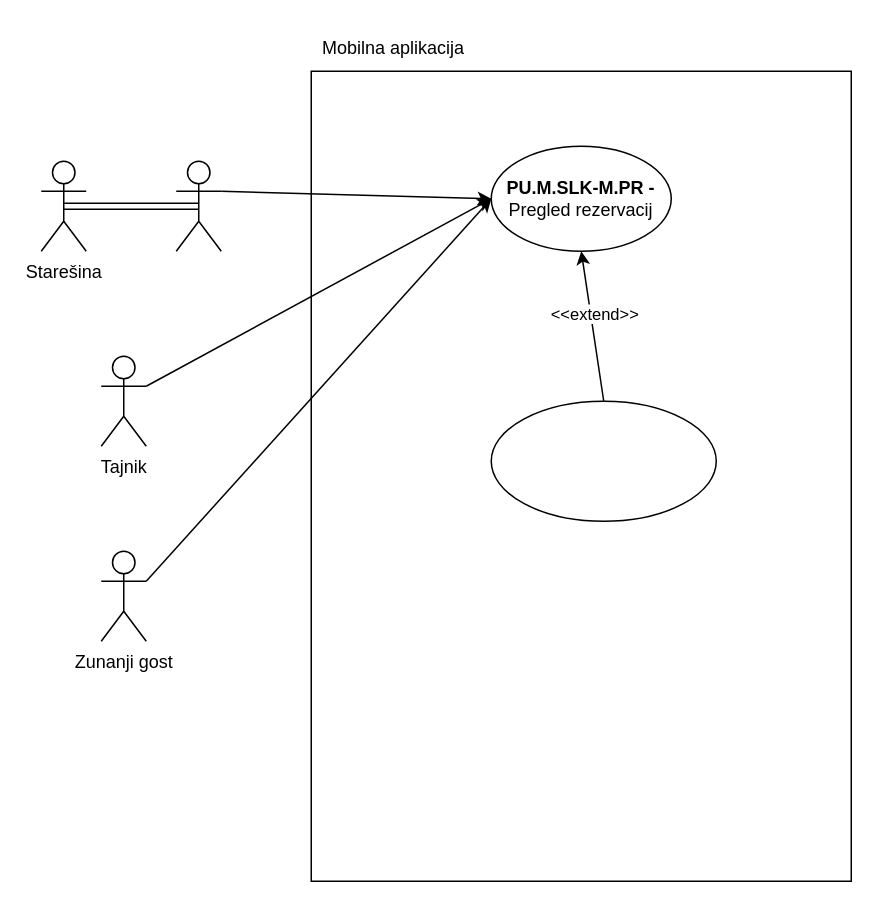
Image size: 878x908. Some labels were removed from this diagram. Each missing label, with the box of its shape:
Gospodar: (175, 160, 221, 251)
PU.M.SLK-M. OR - Opravi rezervacijo/Prekliče rezervacijo: (490, 400, 716, 521)
